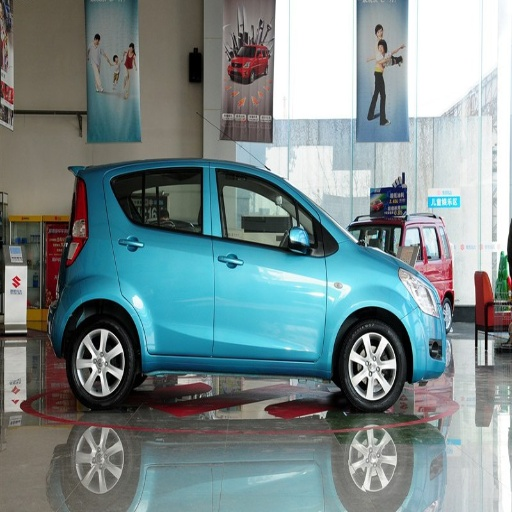back_right_door: (112, 164, 211, 357)
front_right_door: (211, 164, 328, 361)
